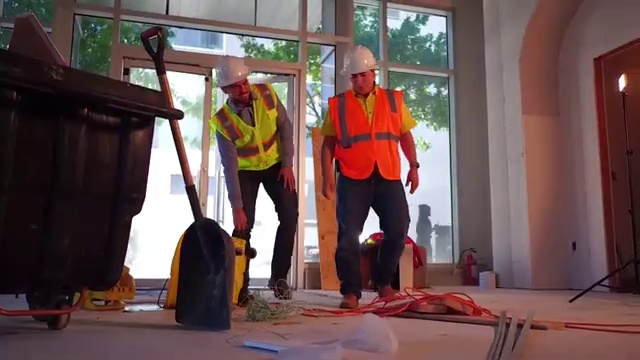helmet: (203, 48, 256, 87), (338, 43, 385, 80)
jacket: (202, 92, 301, 178), (326, 86, 411, 181)
